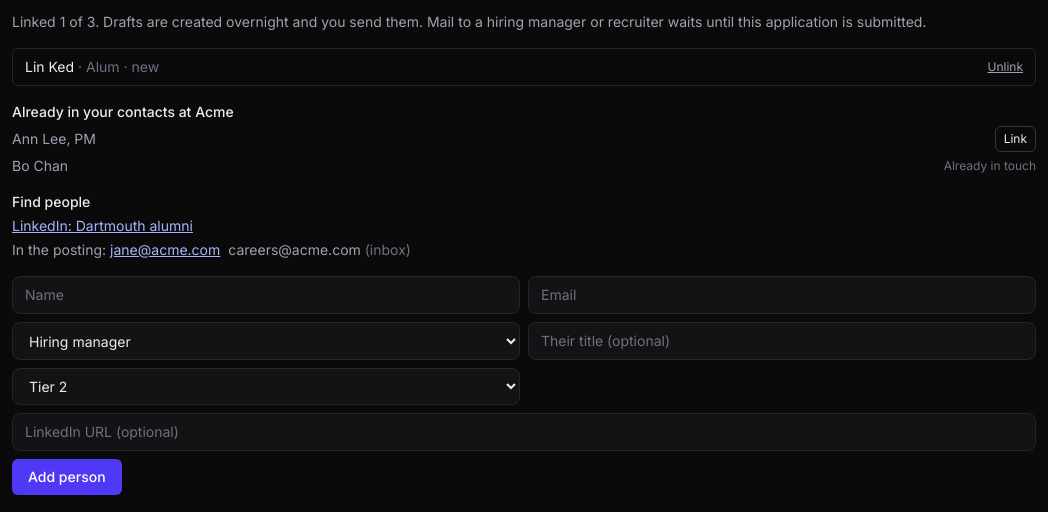
Test: PeoplePanel › a posting email fills the field when tapped
Click the button "jane@acme.com" at (165, 250), box [110,240,220,260]
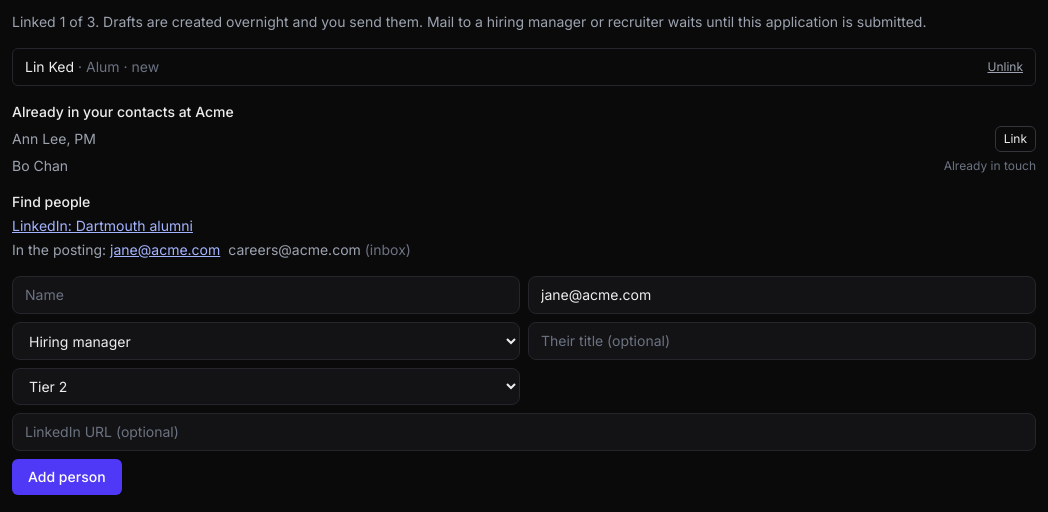
Result: the field named "Email" holds "jane@acme.com" at [528,276,1036,314]
